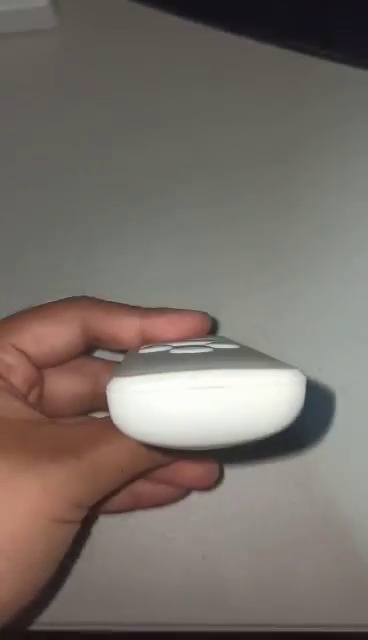remote: (108, 337, 306, 452)
